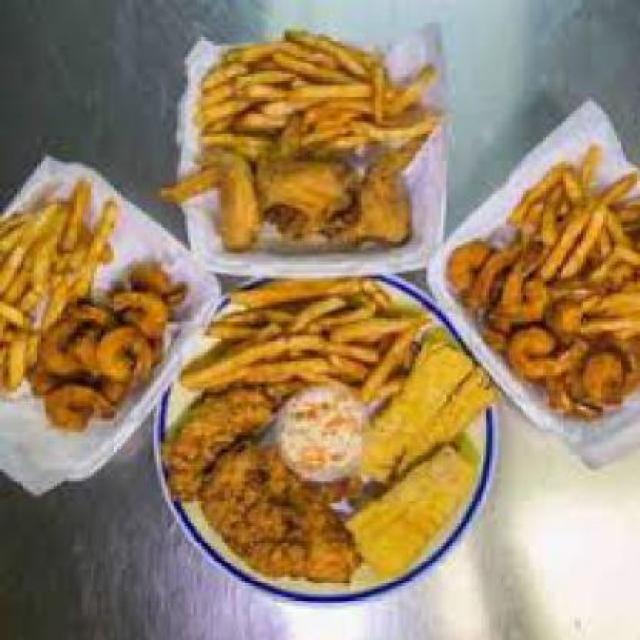chicken wings: (174, 378, 361, 594), (154, 154, 438, 248)
french fries: (185, 22, 444, 156), (182, 270, 412, 384), (498, 137, 638, 278)
onion rings: (441, 228, 625, 422), (43, 264, 171, 438)
